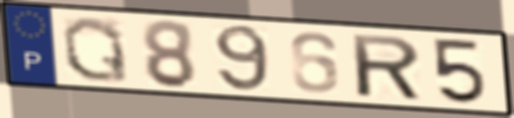5: (431, 36, 489, 107)
6: (287, 30, 341, 95)
8: (138, 17, 199, 90)
9: (210, 23, 272, 94)
Q: (59, 14, 133, 85)
R: (348, 32, 425, 103)
